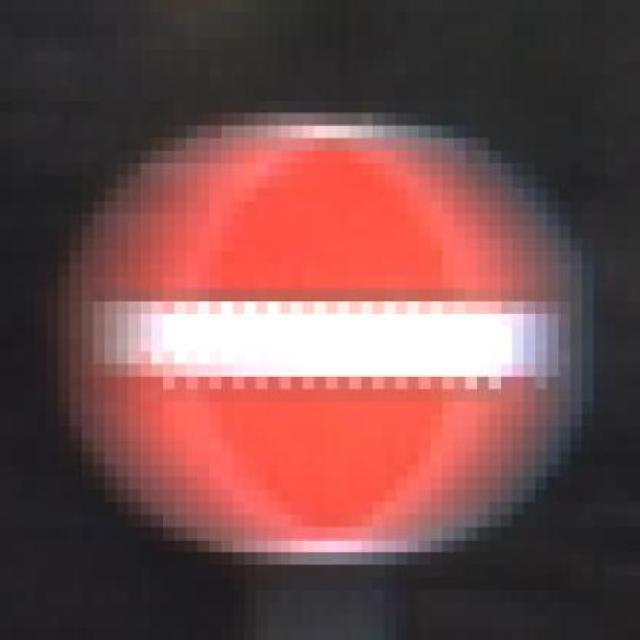B2: (58, 105, 594, 562)
